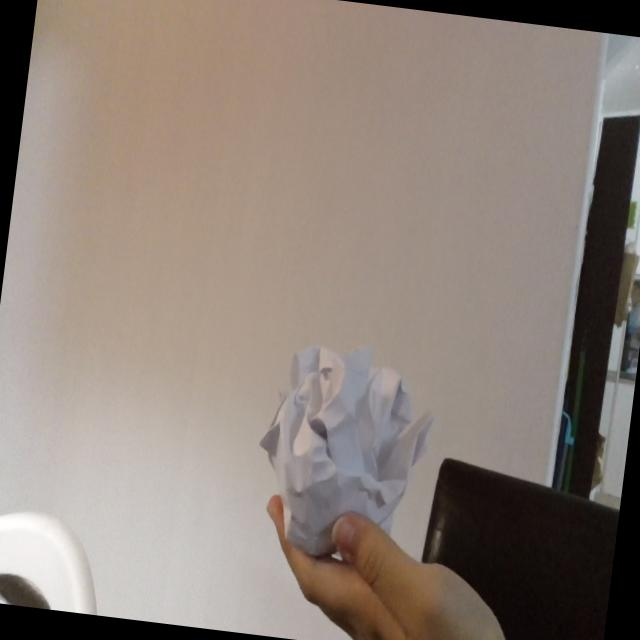crumpled_paper: (246, 331, 443, 570)
